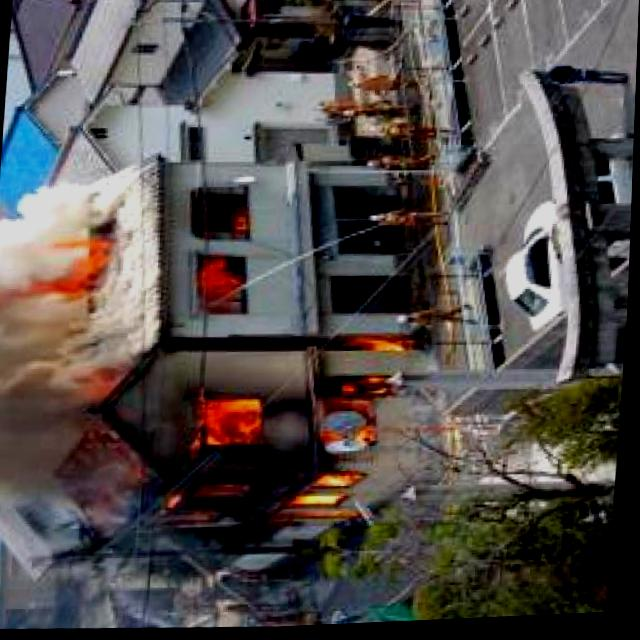Fire: (191, 379, 269, 458), (333, 323, 427, 363), (190, 259, 251, 320), (293, 466, 361, 516), (330, 367, 399, 406)
Smoke: (0, 145, 172, 527)
